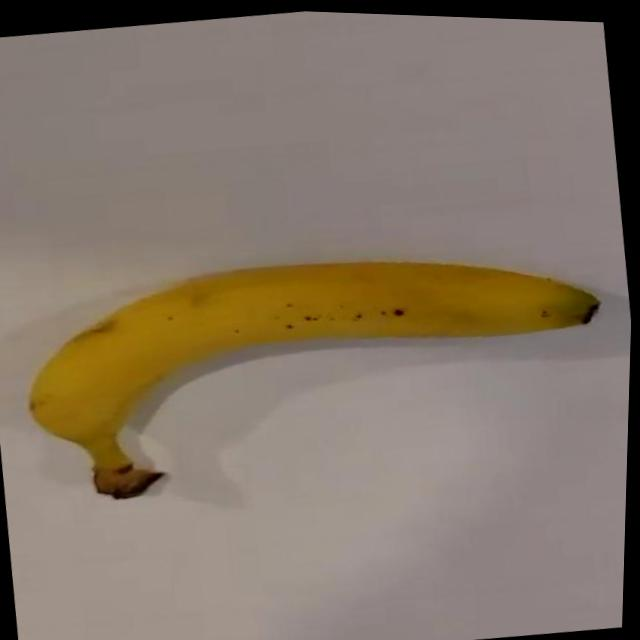Banana: (14, 217, 623, 524)
